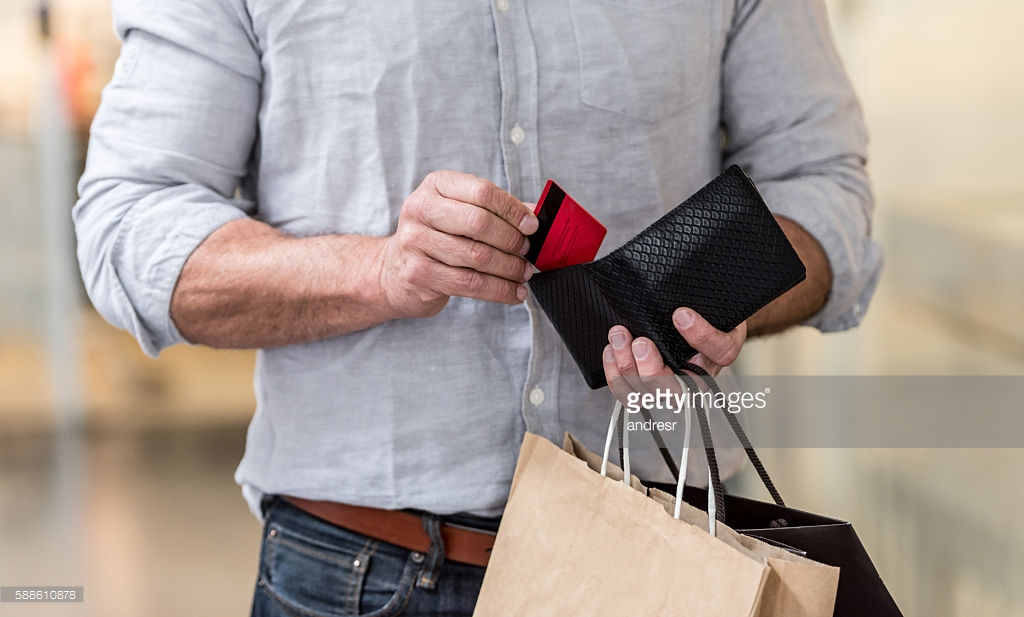monedero: (525, 162, 810, 392)
